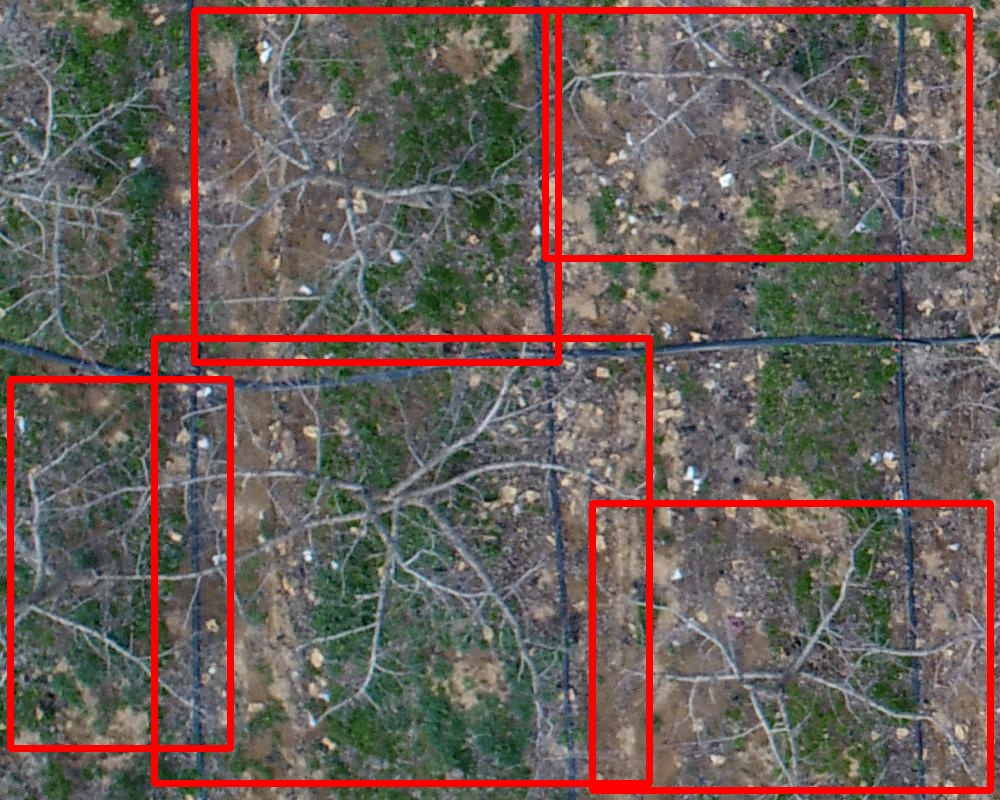apple: (154, 338, 649, 783), (194, 10, 558, 362), (592, 503, 990, 790), (545, 10, 969, 258), (10, 379, 230, 748)
